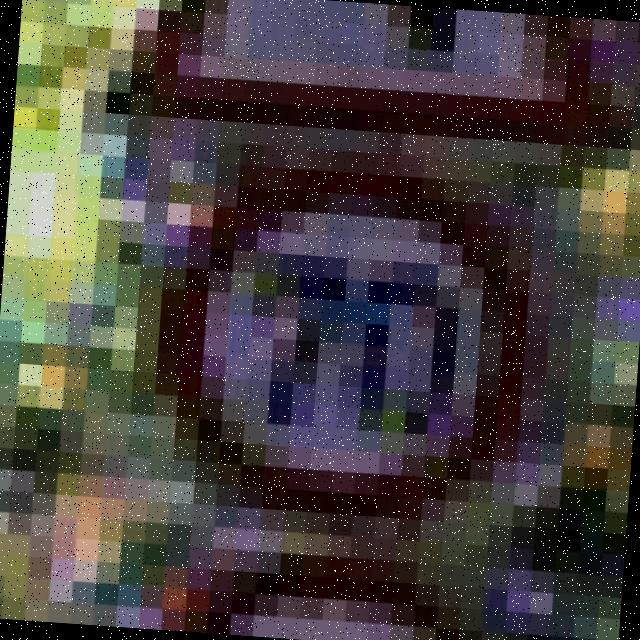Ograniczenie predkosci do 70: (142, 148, 546, 530)
